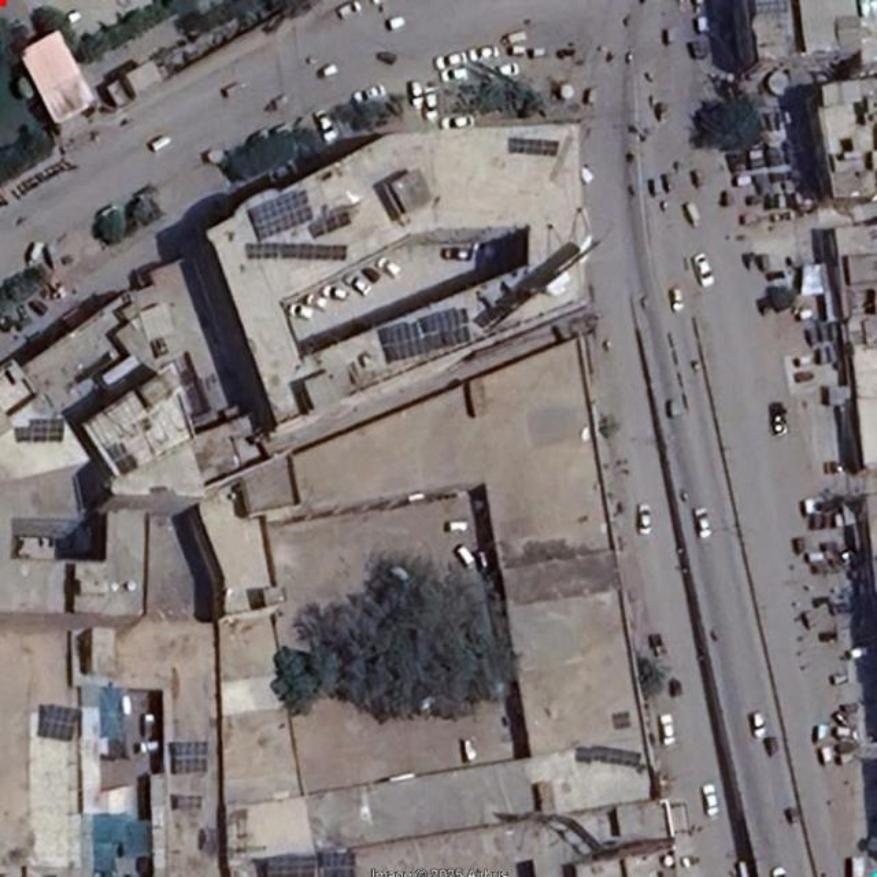Solarpanel: (379, 309, 472, 364), (251, 189, 312, 240), (269, 854, 358, 876), (246, 243, 348, 260), (39, 706, 77, 741), (172, 743, 209, 774), (310, 211, 351, 238), (593, 747, 641, 770), (16, 418, 62, 442), (509, 138, 560, 157), (576, 747, 596, 765), (613, 714, 630, 727)
